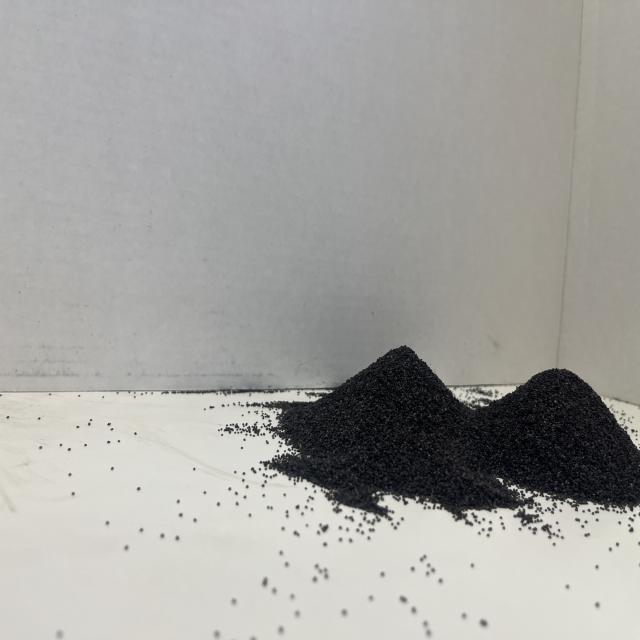Poppy Seeds: (272, 300, 631, 542)
